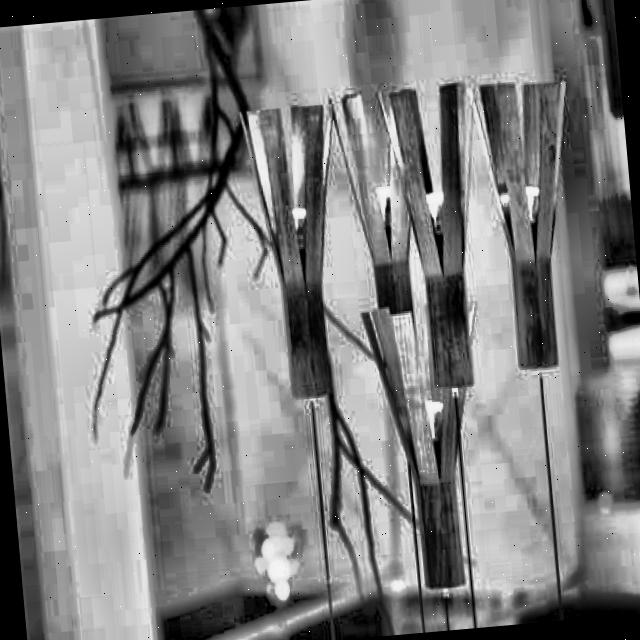hanging object: (334, 72, 506, 614), (468, 61, 596, 612), (240, 108, 368, 640)
